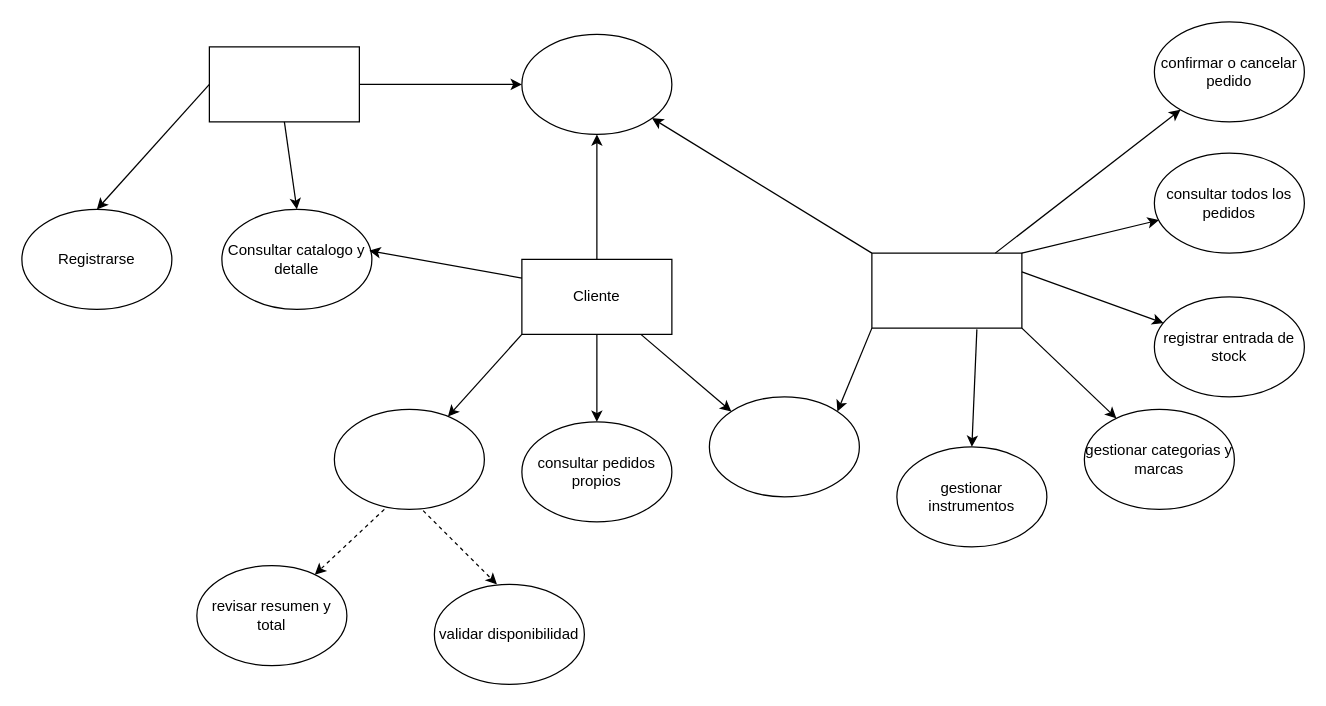
Some shapes in this 1326 by 706 pixel diagram are drawn without their labels. Each missing label, with the centre of its shape:
Administrador: the point at 946,290
cerrar sesion: the point at 783,446
iniciar sesion: the point at 596,83
preparar y registrar pedido: the point at 408,458
Visitante: the point at 283,84
